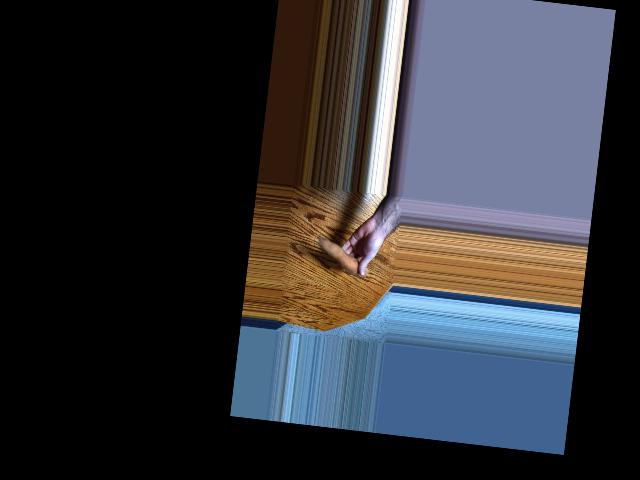sweet_potato: (315, 237, 373, 279)
